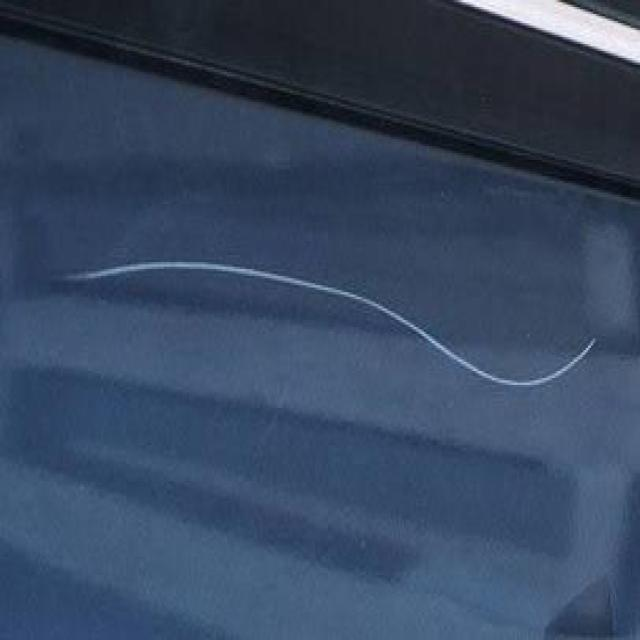scratch: (33, 242, 609, 400)
